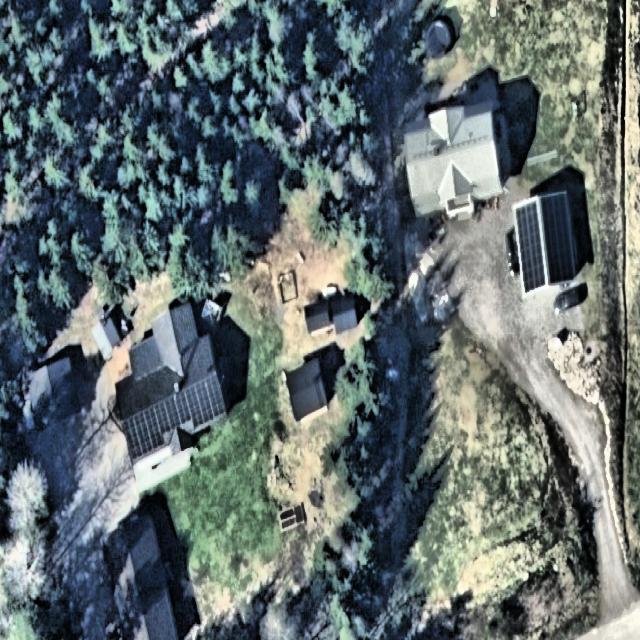roof_pv: (514, 200, 546, 299), (542, 192, 575, 286), (187, 372, 226, 429), (126, 407, 163, 462), (156, 391, 190, 428)
